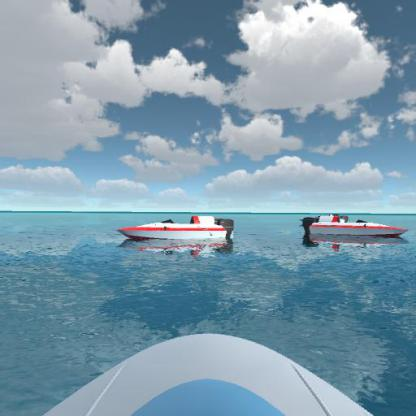usv3: (112, 209, 240, 254), (296, 210, 410, 249)
